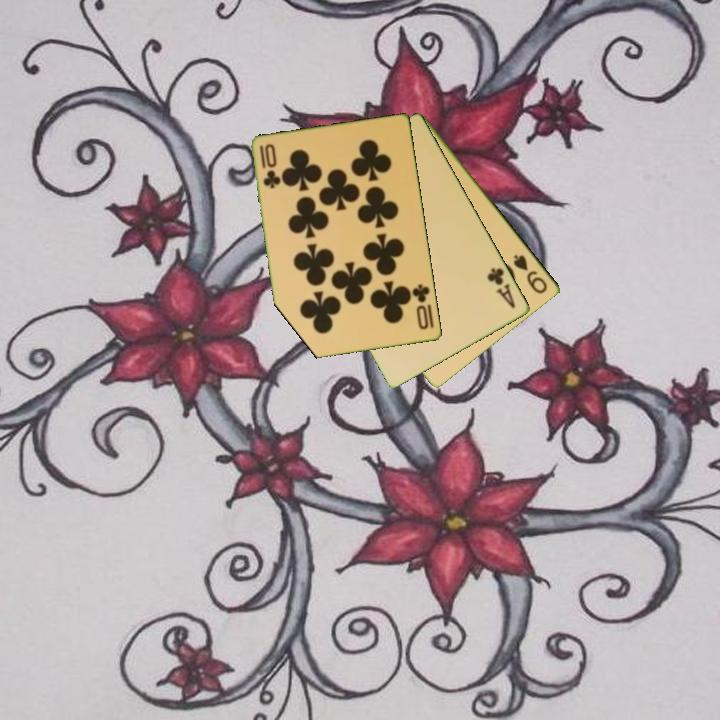10c: (257, 142, 282, 192), (409, 281, 433, 333)
9s: (510, 251, 551, 297)
Ac: (484, 264, 519, 311)
